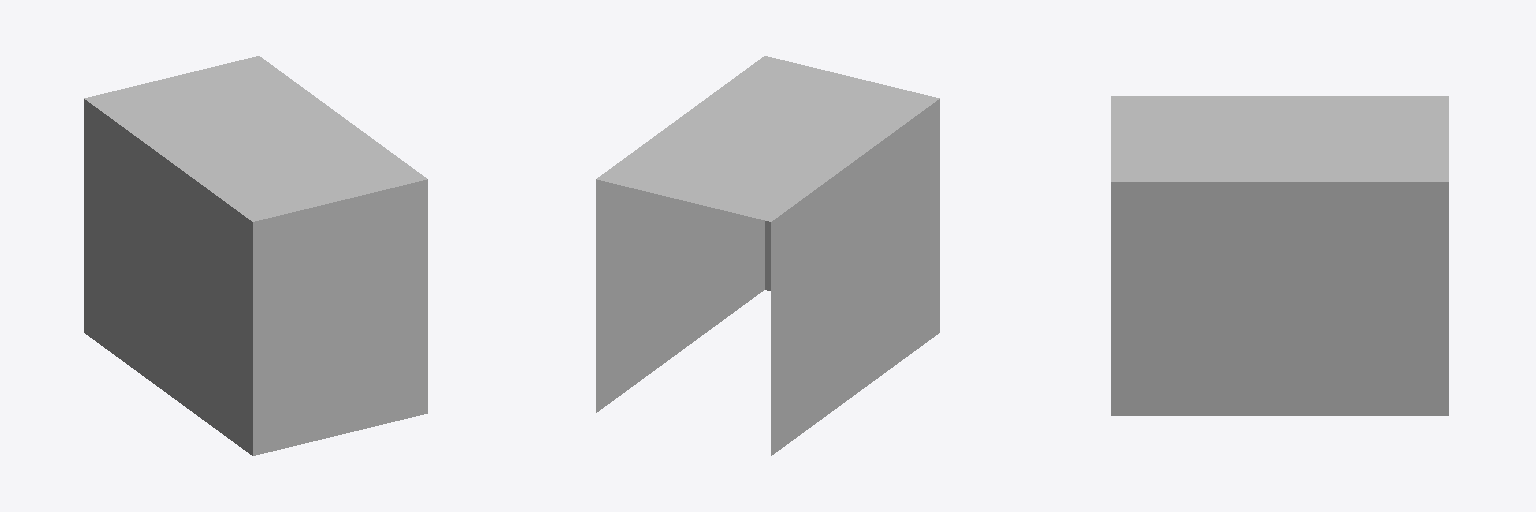
File: mPeakStartPart.obj
3 views of the same model, side by side, from view 1: azimuth 30°, elevation 25°; view 2: azimuth 150°, elevation 25°; view 3: azimuth 270°, elevation 25° (orthographic).
Parts seen in each view (by area): view 1: mPeakStartPart; view 2: mPeakStartPart; view 3: mPeakStartPart.
Boxes of the visible parts, box(x1,y1,x2,y2) form: mPeakStartPart: box(84, 56, 427, 455); mPeakStartPart: box(596, 56, 939, 455); mPeakStartPart: box(1111, 96, 1448, 415).
Bounding box in the file's own units: 24 × 30.63 × 40.04.